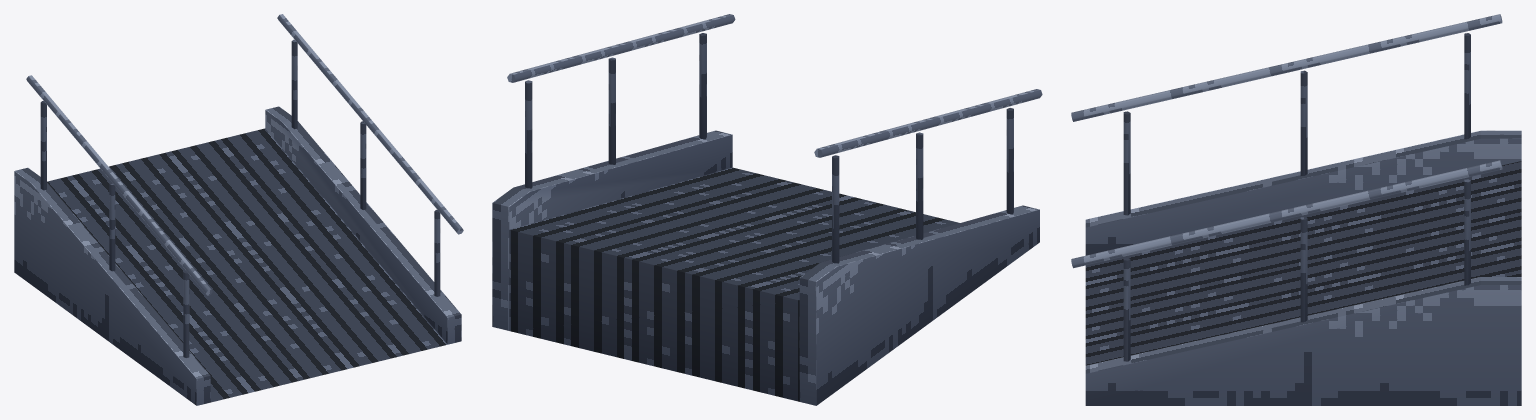
Rendered from stn.stairs__ramp.glb.
The picture shows the model from 3 angles, left to right: view 1: azimuth 30°, elevation 25°; view 2: azimuth 150°, elevation 25°; view 3: azimuth 270°, elevation 25°; orthographic projection. The views are drawn at different scales.
Visible parts, largest first — view 1: kit_flight, kit_stringers, kit_rails, kit_posts; view 2: kit_flight, kit_stringers, kit_posts, kit_rails; view 3: kit_stringers, kit_flight, kit_rails, kit_posts.
Part boxes in pixels (<box>): kit_flight: <box>47,128,447,402</box>; kit_stringers: <box>14,106,461,405</box>; kit_rails: <box>26,14,463,295</box>; kit_posts: <box>40,39,440,357</box>; kit_flight: <box>509,167,959,401</box>; kit_stringers: <box>492,130,1039,405</box>; kit_posts: <box>525,33,1013,263</box>; kit_rails: <box>507,14,1042,157</box>; kit_stringers: <box>1085,130,1521,405</box>; kit_flight: <box>1085,161,1521,365</box>; kit_rails: <box>1071,14,1502,268</box>; kit_posts: <box>1123,33,1470,361</box>.
Size of the model in its own units: 2.68 by 1.95 by 3.31.
Materials: 4 (4 with a texture image).
